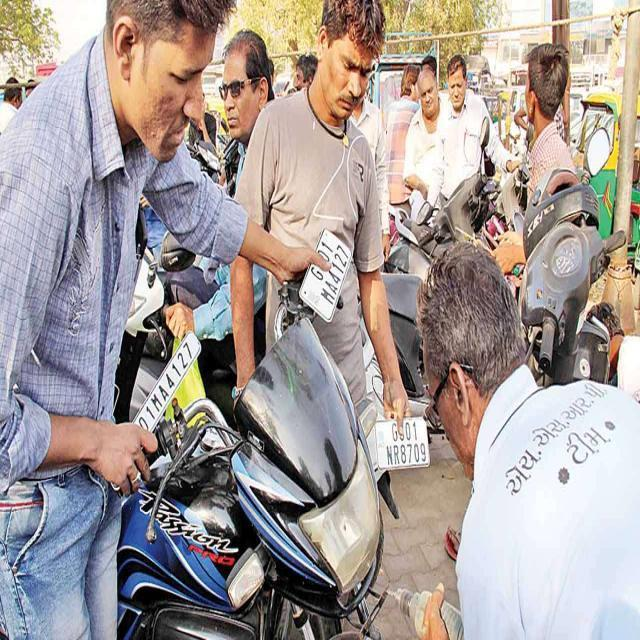License_Plate: (135, 332, 200, 432), (298, 230, 354, 324), (374, 417, 432, 470)
